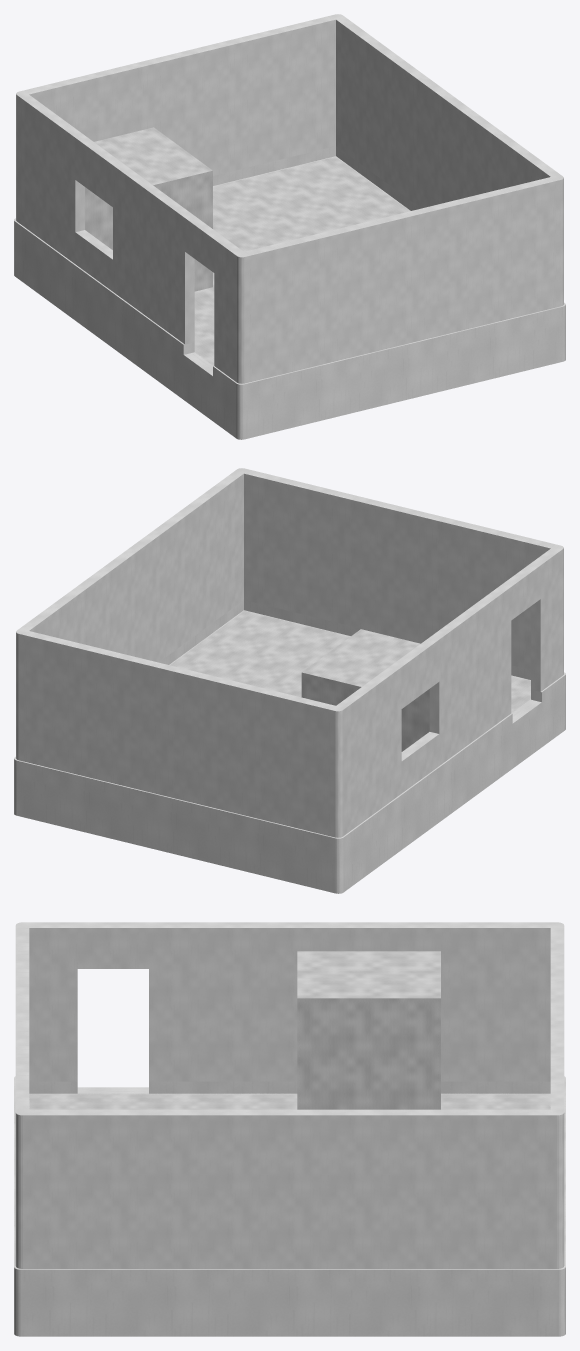
The model's file is SM_Homes_H02_Shell.glb.
3 renders of one model, top to bottom at view 1: azimuth 30°, elevation 25°; view 2: azimuth 150°, elevation 25°; view 3: azimuth 270°, elevation 25°, orthographic. The views are drawn at different scales.
Parts seen in each view (by area): view 1: SM_Homes_H02_Shell; view 2: SM_Homes_H02_Shell; view 3: SM_Homes_H02_Shell.
Part boxes in pixels (left/top/right/bottom): SM_Homes_H02_Shell: left=14, top=14, right=565, bottom=439; SM_Homes_H02_Shell: left=14, top=468, right=565, bottom=893; SM_Homes_H02_Shell: left=14, top=922, right=565, bottom=1336.
Size of the model in its own units: 7.56 by 3.99 by 9.06.
Materials: 3 (3 with a texture image).
